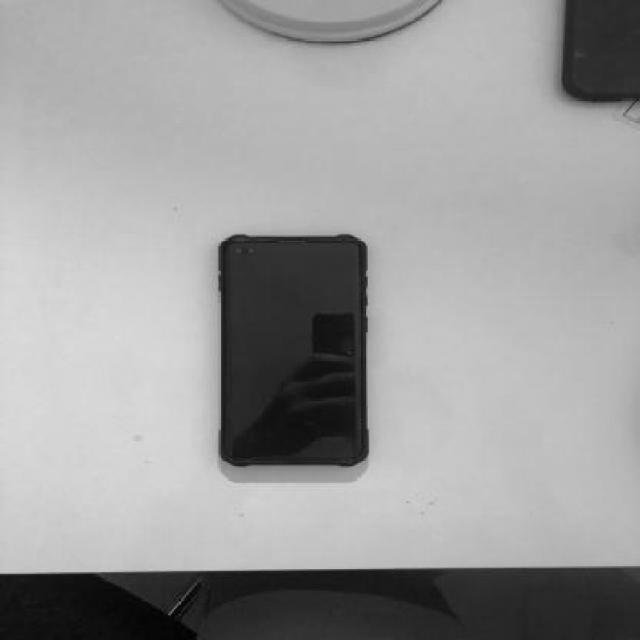fake: (217, 234, 371, 460)
